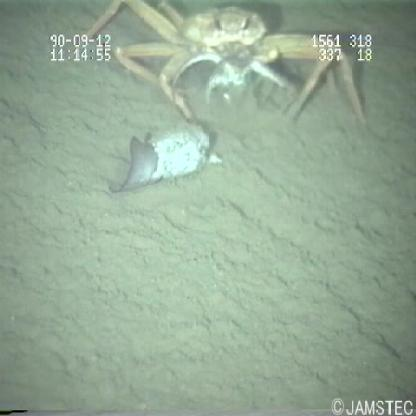Bio: (81, 1, 366, 197)
